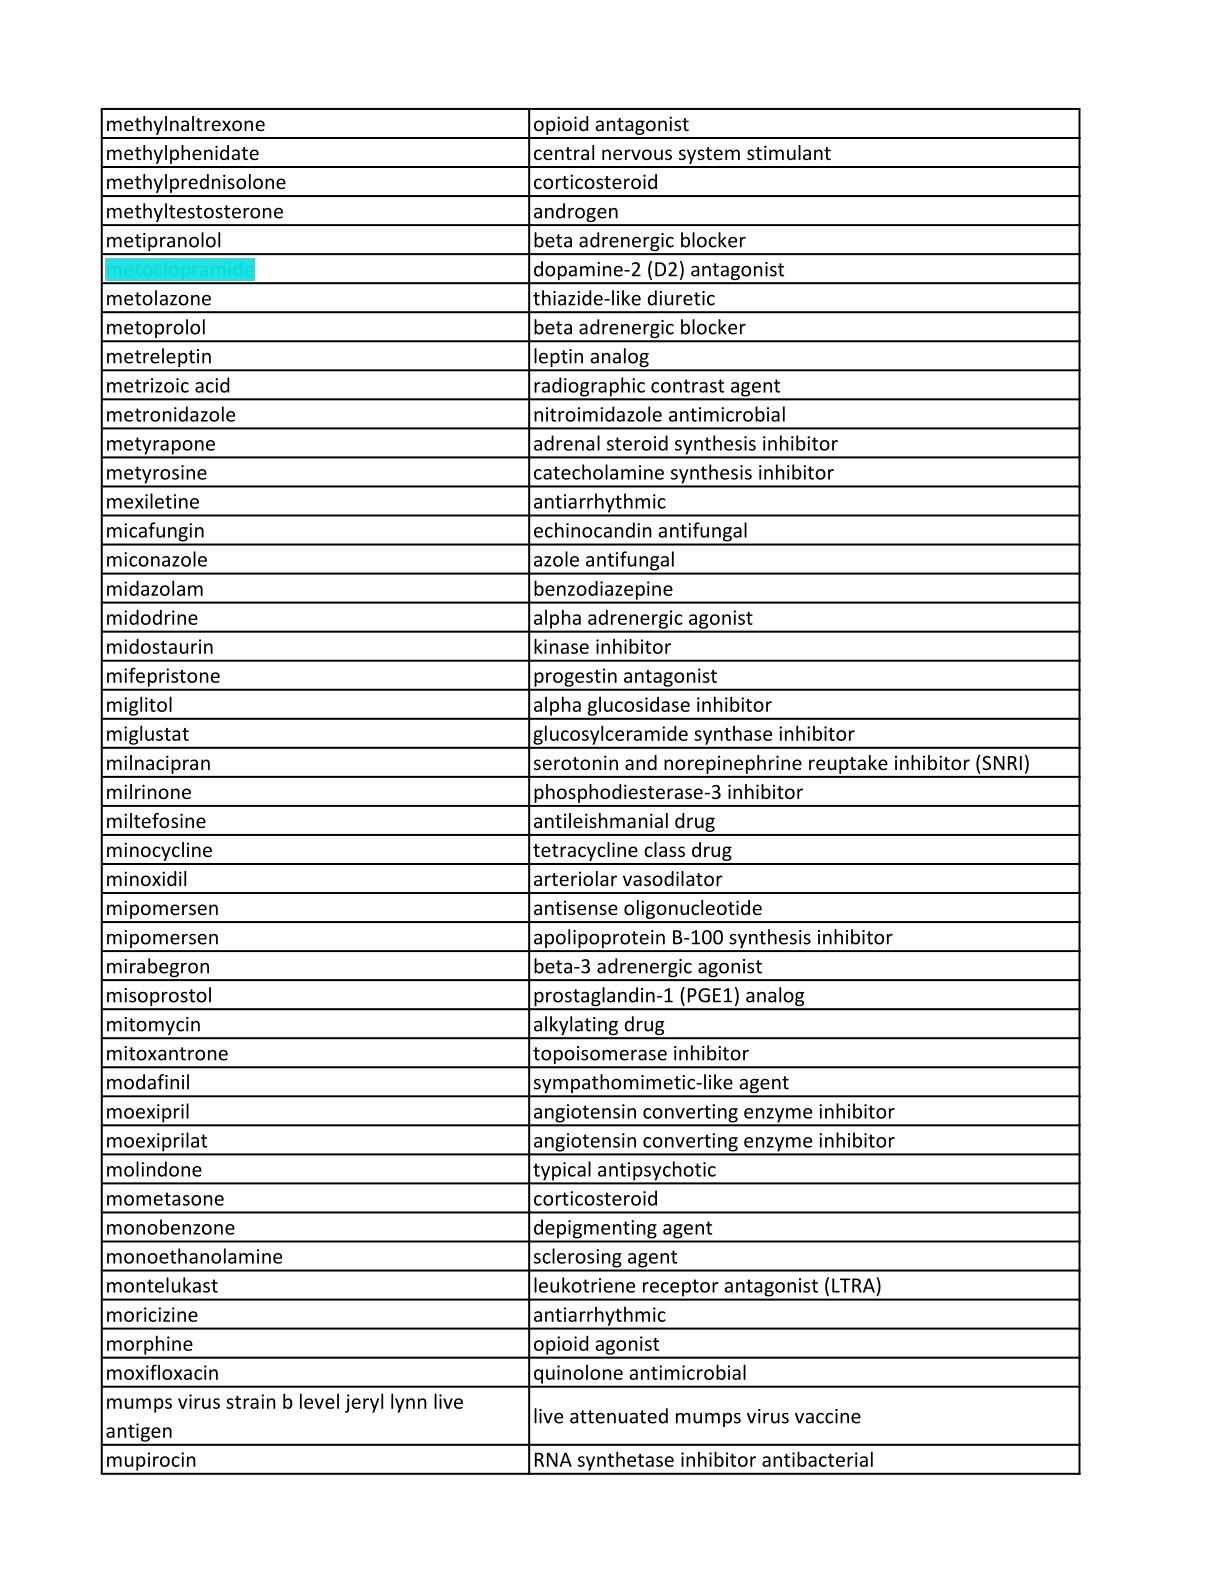full_lined: (96, 104, 1086, 1480)
